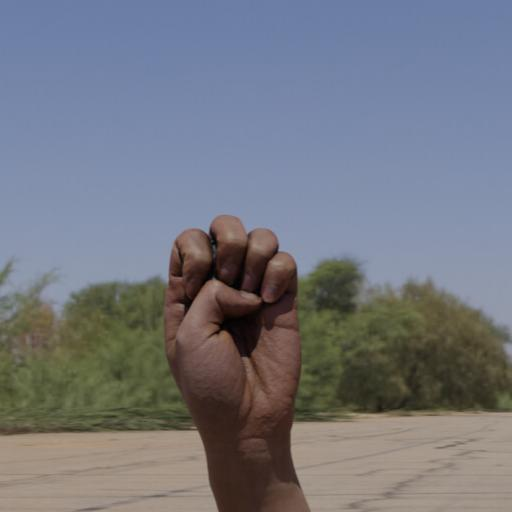E: (149, 197, 323, 463)
